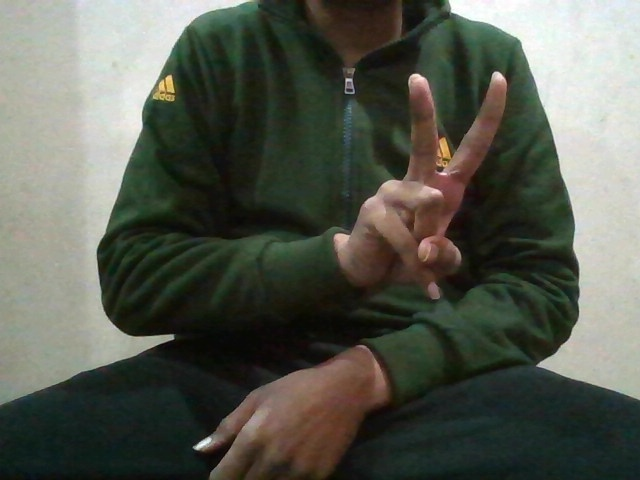V: (388, 77, 501, 281)
